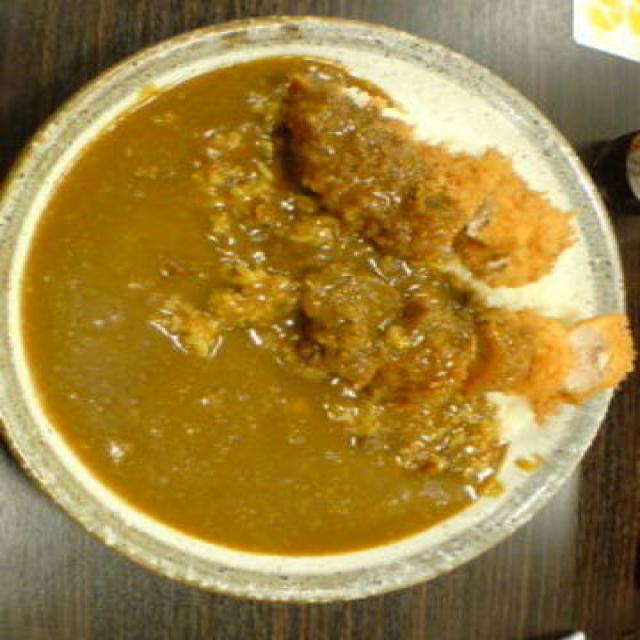猪肉菜式: (0, 12, 635, 604)
